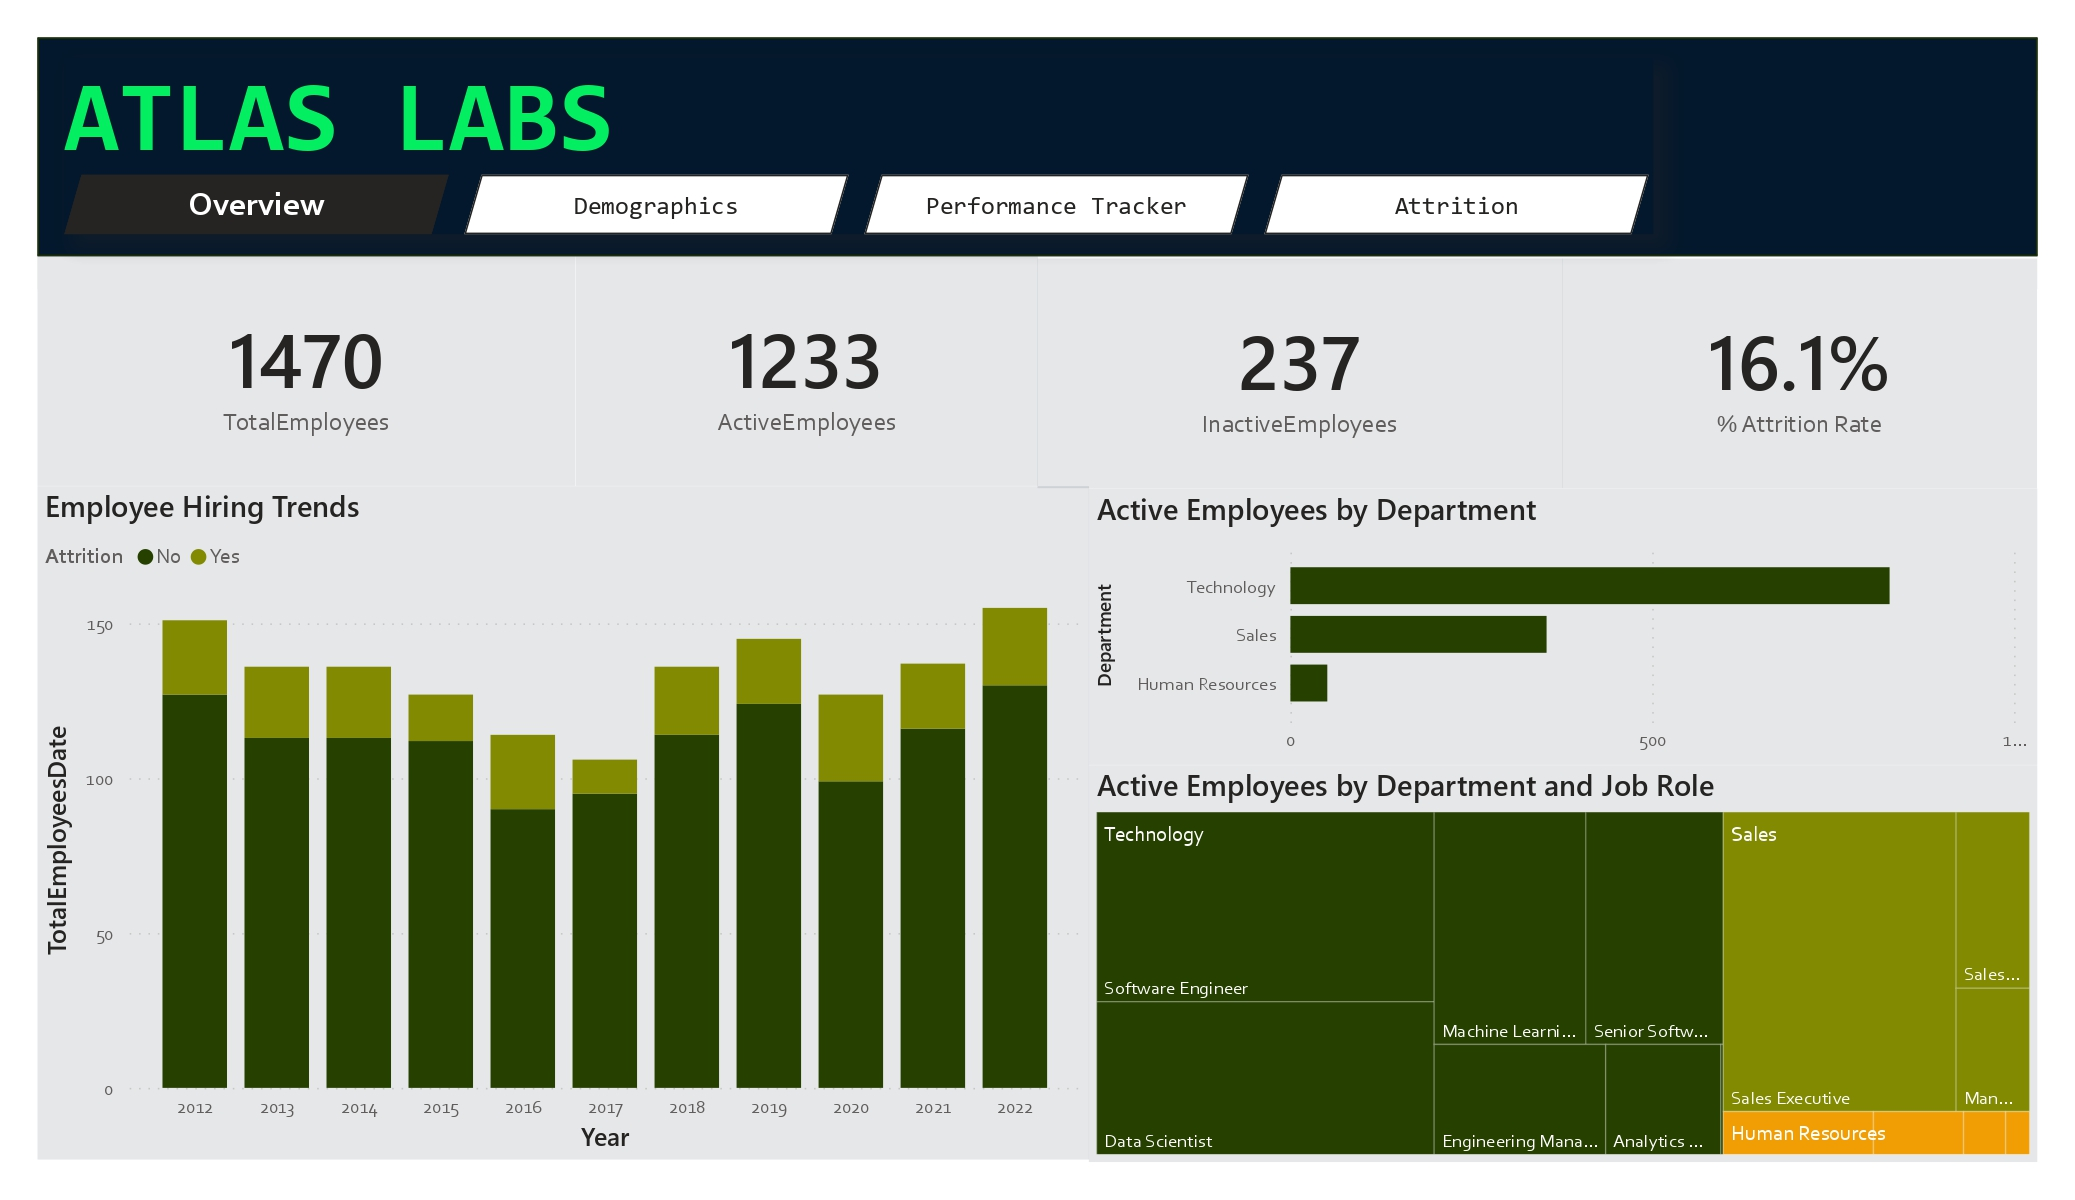

What the dashboard file says about the page in this screenshot:
{"tool":"powerbi","page":{"name":"OVERVIEW","canvas":[1480,860],"ordinal":0},"visuals":[{"type":"shape","box":[183.3,0,1297.2,145.8],"z":0},{"type":"shape","box":[1267.1,152.8,186.6,161.8],"z":0,"group":"g5"},{"type":"shape","box":[232.3,153.5,186.6,161.8],"z":0,"group":"g1"},{"type":"shape","box":[643.4,154.2,186.6,161.8],"z":0,"group":"g3"},{"type":"shape","box":[847.6,154.2,186.6,161.8],"z":0,"group":"g4"},{"type":"shape","box":[1056.4,154.4,186.6,161.8],"z":0,"group":"g6"},{"type":"shape","box":[437.8,155.5,186.6,161.8],"z":0,"group":"g2"},{"type":"shape","box":[1267.1,152.8,203.8,175.2],"z":1000,"group":"g5"},{"type":"group","id":"g1","title":"Group 1","box":[232.3,153.5,203.8,175.2],"z":1000},{"type":"shape","box":[232.3,153.5,203.8,175.2],"z":1000,"group":"g1"},{"type":"shape","box":[643.4,154.2,203.8,175.2],"z":1000,"group":"g3"},{"type":"shape","box":[847.6,154.2,203.8,175.2],"z":1000,"group":"g4"},{"type":"shape","box":[1056.4,154.4,203.8,175.2],"z":1000,"group":"g6"},{"type":"shape","box":[437.8,155.5,203.8,175.2],"z":1000,"group":"g2"},{"type":"group","id":"g2","title":"Group 1","box":[437.8,155.5,203.8,175.2],"z":2000},{"type":"group","id":"g3","title":"Group 1","box":[643.4,154.2,203.8,175.2],"z":3000},{"type":"group","id":"g4","title":"Group 1","box":[847.6,154.2,203.8,175.2],"z":4000},{"type":"group","id":"g5","title":"Group 1","box":[1267.1,152.8,204.2,175],"z":5000},{"type":"group","id":"g6","title":"Group 1","box":[1056.4,154.4,204.2,176.4],"z":6000},{"type":"slicer","fields":{"Values":["Crime-Statistics-Summary-Ministry-of-Police-Affairs FOR 3 YEARS.GEO-POLITICAL ZONES","Crime-Statistics-Summary-Ministry-of-Police-Affairs FOR 3 YEARS.STATE"]},"box":[950,18.1,365.3,111.1],"z":7000},{"type":"shape","box":[0,0,210.3,860.3],"z":8000},{"type":"shape","box":[0,0,210.3,193.6],"z":9000},{"type":"map","title":"TOTAL CASES REPORTED IN NIGERIA","fields":{"Category":["Crime-Statistics-Summary-Ministry-of-Police-Affairs FOR 3 YEARS.STATE"],"Size":["Sum(Crime-Statistics-Summary-Ministry-of-Police-Affairs FOR 3 YEARS.TOTAL CASES REPORTED)"]},"box":[224.8,325.5,522.9,529.9],"z":10000},{"type":"card","fields":{"Values":["Sum(Crime-Statistics-Summary-Ministry-of-Police-Affairs FOR 3 YEARS.TOTAL CASES REPORTED)"]},"box":[29.2,418.1,152.8,118.1],"z":11000},{"type":"card","fields":{"Values":["Sum(Crime-Statistics-Summary-Ministry-of-Police-Affairs FOR 3 YEARS.TOTAL CASES REPORTED)"]},"box":[30.8,556.6,153.3,117.8],"z":12000},{"type":"card","fields":{"Values":["Sum(Crime-Statistics-Summary-Ministry-of-Police-Affairs FOR 3 YEARS.TOTAL CASES REPORTED)"]},"box":[30.6,695.8,154.2,116.7],"z":13000},{"type":"shape","box":[3.4,872.4,210.3,206.9],"z":14000},{"type":"shape","box":[0,193.6,210.3,193.6],"z":15000},{"type":"card","title":"ARMED ROBBERY","fields":{"Values":["Sum(Crime-Statistics-Summary-Ministry-of-Police-Affairs FOR 3 YEARS.ARMED ROBBERYCASES (JAN-DEC))"]},"box":[243.1,170.8,181.9,68.1],"z":16000},{"type":"lineChart","fields":{"Y":["Sum(Crime-Statistics-Summary-Ministry-of-Police-Affairs FOR 3 YEARS.ARMED ROBBERYCASES (JAN-DEC))"],"Category":["Crime-Statistics-Summary-Ministry-of-Police-Affairs FOR 3 YEARS.YEAR"]},"box":[243.1,212.5,181.9,112.5],"z":17000},{"type":"card","title":"ARMED BANDITORY","fields":{"Values":["Sum(Crime-Statistics-Summary-Ministry-of-Police-Affairs FOR 3 YEARS.ARMEDBANDITRY OCCCURRENCE (JAN-DEC))"]},"box":[448.6,170.8,181.9,68.1],"z":18000},{"type":"card","title":"KIDNAPPING","fields":{"Values":["Sum(Crime-Statistics-Summary-Ministry-of-Police-Affairs FOR 3 YEARS.KIDNAPPINGCASES (JAN-DEC))"]},"box":[656.9,170.8,181.9,68.1],"z":19000},{"type":"card","title":"MURDER","fields":{"Values":["Sum(Crime-Statistics-Summary-Ministry-of-Police-Affairs FOR 3 YEARS.MURDERCASES (JAN-DEC))"]},"box":[861.1,172.2,181.9,68.1],"z":20000},{"type":"card","title":"TERRORISM","fields":{"Values":["Sum(Crime-Statistics-Summary-Ministry-of-Police-Affairs FOR 3 YEARS.TERRORRISM/SECESSIONISTSATTACK (JAN-DEC))"]},"box":[1068.1,173.6,183.3,68.1],"z":21000},{"type":"card","title":"OTHERS","fields":{"Values":["Sum(Crime-Statistics-Summary-Ministry-of-Police-Affairs FOR 3 YEARS.OTHERS (JAN-DEC))"]},"box":[1277.8,172.2,183.3,68.1],"z":22000},{"type":"lineChart","fields":{"Y":["Sum(Crime-Statistics-Summary-Ministry-of-Police-Affairs FOR 3 YEARS.ARMEDBANDITRY OCCCURRENCE (JAN-DEC))"],"Category":["Crime-Statistics-Summary-Ministry-of-Police-Affairs FOR 3 YEARS.YEAR"]},"box":[448.6,211.1,172.2,112.5],"z":23000},{"type":"lineChart","fields":{"Y":["Sum(Crime-Statistics-Summary-Ministry-of-Police-Affairs FOR 3 YEARS.KIDNAPPINGCASES (JAN-DEC))"],"Category":["Crime-Statistics-Summary-Ministry-of-Police-Affairs FOR 3 YEARS.YEAR"]},"box":[652.8,209.7,180.6,112.5],"z":24000},{"type":"lineChart","fields":{"Y":["Sum(Crime-Statistics-Summary-Ministry-of-Police-Affairs FOR 3 YEARS.MURDERCASES (JAN-DEC))"],"Category":["Crime-Statistics-Summary-Ministry-of-Police-Affairs FOR 3 YEARS.YEAR"]},"box":[861.1,209.7,177.8,112.5],"z":25000},{"type":"lineChart","fields":{"Y":["Sum(Crime-Statistics-Summary-Ministry-of-Police-Affairs FOR 3 YEARS.TERRORRISM/SECESSIONISTSATTACK (JAN-DEC))"],"Category":["Crime-Statistics-Summary-Ministry-of-Police-Affairs FOR 3 YEARS.YEAR"]},"box":[1065.3,209.7,187.5,112.5],"z":26000},{"type":"lineChart","fields":{"Y":["Sum(Crime-Statistics-Summary-Ministry-of-Police-Affairs FOR 3 YEARS.OTHERS (JAN-DEC))"],"Category":["Crime-Statistics-Summary-Ministry-of-Police-Affairs FOR 3 YEARS.YEAR"]},"box":[1276.4,209.7,181.9,112.5],"z":27000},{"type":"image","box":[176.4,0,540.3,109.7],"z":28000},{"type":"textbox","box":[351.4,97.2,465.3,48.6],"z":29000},{"type":"image","box":[2.8,13.9,198.6,166.7],"z":30000},{"type":"card","fields":{"Values":["Sum(Crime-Statistics-Summary-Ministry-of-Police-Affairs FOR 3 YEARS.TOTAL CASES REPORTED)"]},"box":[5.6,200,198.6,179.2],"z":31000},{"type":"clusteredColumnChart","title":"CASES REPORTED IN DIFFERENT STATES","fields":{"Category":["Crime-Statistics-Summary-Ministry-of-Police-Affairs FOR 3 YEARS.STATE"],"Y":["Sum(Crime-Statistics-Summary-Ministry-of-Police-Affairs FOR 3 YEARS.TOTAL CASES REPORTED)"]},"box":[752.8,326.4,725,530.6],"z":32000}]}

Visuals, with their boxes in screenshot pixels (x1, y1, x2, y2), scaled from the page's 1480x860 canvas onto the 2075x1200 screenshot:
shape: (left=257, top=0, right=2074, bottom=203)
shape: (left=1777, top=213, right=2038, bottom=439)
shape: (left=326, top=214, right=587, bottom=440)
shape: (left=902, top=215, right=1164, bottom=441)
shape: (left=1188, top=215, right=1450, bottom=441)
shape: (left=1481, top=215, right=1743, bottom=441)
shape: (left=614, top=217, right=875, bottom=443)
shape: (left=1777, top=213, right=2062, bottom=458)
"Group 1" group: (left=326, top=214, right=611, bottom=459)
shape: (left=326, top=214, right=611, bottom=459)
shape: (left=902, top=215, right=1188, bottom=460)
shape: (left=1188, top=215, right=1474, bottom=460)
shape: (left=1481, top=215, right=1767, bottom=460)
shape: (left=614, top=217, right=900, bottom=461)
"Group 1" group: (left=614, top=217, right=900, bottom=461)
"Group 1" group: (left=902, top=215, right=1188, bottom=460)
"Group 1" group: (left=1188, top=215, right=1474, bottom=460)
"Group 1" group: (left=1777, top=213, right=2063, bottom=457)
"Group 1" group: (left=1481, top=215, right=1767, bottom=462)
slicer - Crime-Statistics-Summary-Ministry-of-Police-Affairs FOR 3 YEARS.GEO-POLITICAL ZONES x Crime-Statistics-Summary-Ministry-of-Police-Affairs FOR 3 YEARS.STATE: (left=1332, top=25, right=1844, bottom=180)
shape: (left=0, top=0, right=295, bottom=1199)
shape: (left=0, top=0, right=295, bottom=270)
"TOTAL CASES REPORTED IN NIGERIA" map: (left=315, top=454, right=1048, bottom=1194)
card - Sum(Crime-Statistics-Summary-Ministry-of-Police-Affairs FOR 3 YEARS.TOTAL CASES REPORTED): (left=41, top=583, right=255, bottom=748)
card - Sum(Crime-Statistics-Summary-Ministry-of-Police-Affairs FOR 3 YEARS.TOTAL CASES REPORTED): (left=43, top=777, right=258, bottom=941)
card - Sum(Crime-Statistics-Summary-Ministry-of-Police-Affairs FOR 3 YEARS.TOTAL CASES REPORTED): (left=43, top=971, right=259, bottom=1134)
shape: (left=0, top=270, right=295, bottom=540)
"ARMED ROBBERY" card: (left=341, top=238, right=596, bottom=333)
lineChart - Sum(Crime-Statistics-Summary-Ministry-of-Police-Affairs FOR 3 YEARS.ARMED ROBBERYCASES (JAN-DEC)) x Crime-Statistics-Summary-Ministry-of-Police-Affairs FOR 3 YEARS.YEAR: (left=341, top=297, right=596, bottom=453)
"ARMED BANDITORY" card: (left=629, top=238, right=884, bottom=333)
"KIDNAPPING" card: (left=921, top=238, right=1176, bottom=333)
"MURDER" card: (left=1207, top=240, right=1462, bottom=335)
"TERRORISM" card: (left=1498, top=242, right=1754, bottom=337)
"OTHERS" card: (left=1792, top=240, right=2049, bottom=335)
lineChart - Sum(Crime-Statistics-Summary-Ministry-of-Police-Affairs FOR 3 YEARS.ARMEDBANDITRY OCCCURRENCE (JAN-DEC)) x Crime-Statistics-Summary-Ministry-of-Police-Affairs FOR 3 YEARS.YEAR: (left=629, top=295, right=870, bottom=452)
lineChart - Sum(Crime-Statistics-Summary-Ministry-of-Police-Affairs FOR 3 YEARS.KIDNAPPINGCASES (JAN-DEC)) x Crime-Statistics-Summary-Ministry-of-Police-Affairs FOR 3 YEARS.YEAR: (left=915, top=293, right=1168, bottom=450)
lineChart - Sum(Crime-Statistics-Summary-Ministry-of-Police-Affairs FOR 3 YEARS.MURDERCASES (JAN-DEC)) x Crime-Statistics-Summary-Ministry-of-Police-Affairs FOR 3 YEARS.YEAR: (left=1207, top=293, right=1457, bottom=450)
lineChart - Sum(Crime-Statistics-Summary-Ministry-of-Police-Affairs FOR 3 YEARS.TERRORRISM/SECESSIONISTSATTACK (JAN-DEC)) x Crime-Statistics-Summary-Ministry-of-Police-Affairs FOR 3 YEARS.YEAR: (left=1494, top=293, right=1756, bottom=450)
lineChart - Sum(Crime-Statistics-Summary-Ministry-of-Police-Affairs FOR 3 YEARS.OTHERS (JAN-DEC)) x Crime-Statistics-Summary-Ministry-of-Police-Affairs FOR 3 YEARS.YEAR: (left=1790, top=293, right=2045, bottom=450)
image: (left=247, top=0, right=1005, bottom=153)
textbox: (left=493, top=136, right=1145, bottom=203)
image: (left=4, top=19, right=282, bottom=252)
card - Sum(Crime-Statistics-Summary-Ministry-of-Police-Affairs FOR 3 YEARS.TOTAL CASES REPORTED): (left=8, top=279, right=286, bottom=529)
"CASES REPORTED IN DIFFERENT STATES" clusteredColumnChart: (left=1055, top=455, right=2072, bottom=1196)
